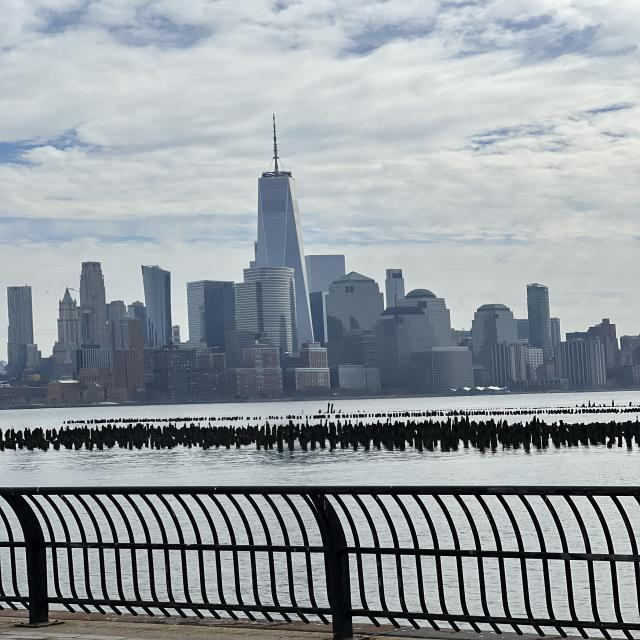WTC: (257, 114, 305, 266)
